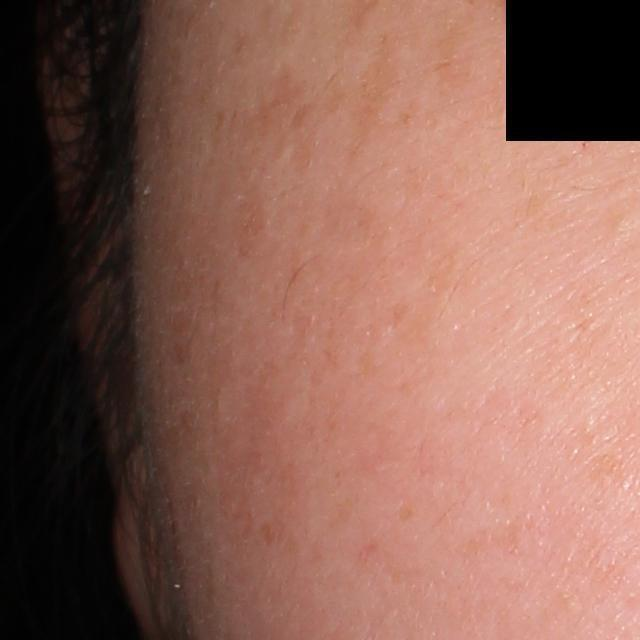melasma: (205, 56, 333, 176), (346, 28, 406, 165), (430, 18, 478, 113)
